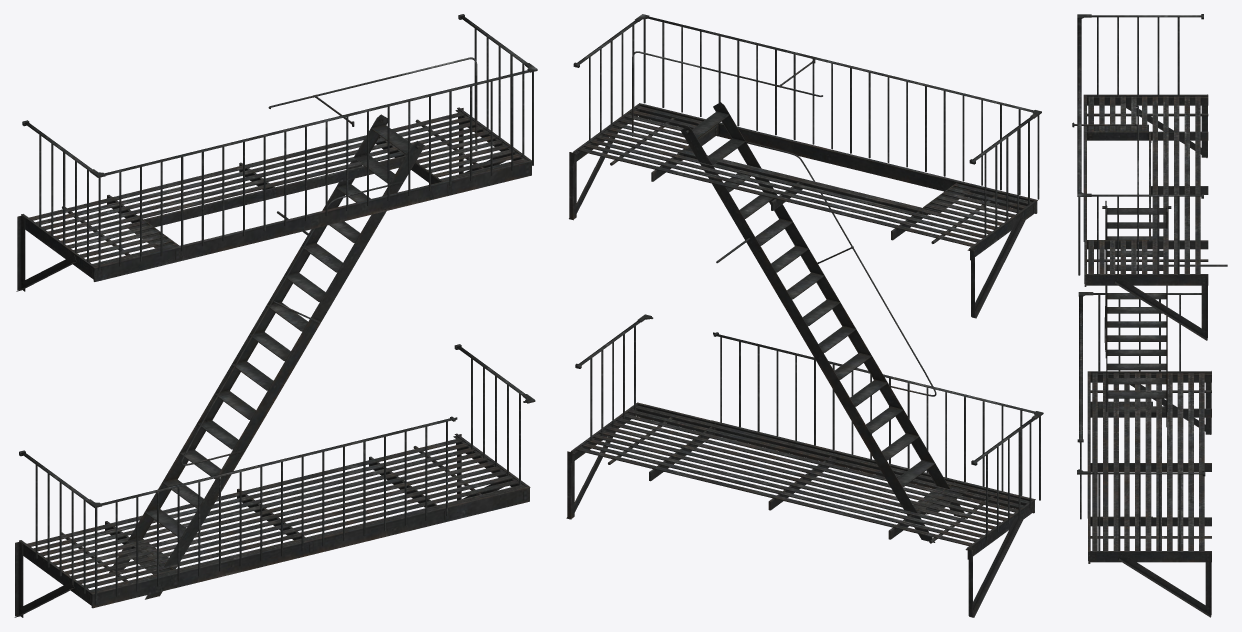
File: fire-escape.glb
3 views of the same model, side by side, from view 1: azimuth 30°, elevation 25°; view 2: azimuth 150°, elevation 25°; view 3: azimuth 270°, elevation 25° (orthographic). The views are drawn at different scales.
Parts seen in each view (by area): view 1: modular_fire_escape_platform_bottom, modular_fire_escape_platform_middle, modular_fire_escape_stairs, modular_fire_escape_railing_middle, modular_fire_escape_railing_bottom, modular_fire_escape_platform_railing; view 2: modular_fire_escape_platform_bottom, modular_fire_escape_platform_middle, modular_fire_escape_stairs, modular_fire_escape_railing_middle, modular_fire_escape_railing_bottom, modular_fire_escape_platform_railing; view 3: modular_fire_escape_platform_bottom, modular_fire_escape_platform_middle, modular_fire_escape_stairs, modular_fire_escape_railing_middle, modular_fire_escape_railing_bottom, modular_fire_escape_platform_railing.
Part boxes in pixels (bbox=[...]): modular_fire_escape_platform_bottom: bbox=[14, 433, 530, 617]; modular_fire_escape_platform_middle: bbox=[16, 107, 531, 291]; modular_fire_escape_stairs: bbox=[109, 114, 425, 599]; modular_fire_escape_railing_middle: bbox=[22, 14, 537, 271]; modular_fire_escape_railing_bottom: bbox=[19, 344, 535, 601]; modular_fire_escape_platform_railing: bbox=[268, 57, 477, 151]; modular_fire_escape_platform_bottom: bbox=[566, 402, 1035, 617]; modular_fire_escape_platform_middle: bbox=[569, 103, 1037, 318]; modular_fire_escape_stairs: bbox=[680, 102, 967, 542]; modular_fire_escape_railing_middle: bbox=[573, 14, 1041, 237]; modular_fire_escape_railing_bottom: bbox=[575, 314, 1043, 539]; modular_fire_escape_platform_railing: bbox=[632, 51, 822, 136]; modular_fire_escape_platform_bottom: bbox=[1087, 371, 1211, 617]; modular_fire_escape_platform_middle: bbox=[1083, 94, 1208, 340]; modular_fire_escape_stairs: bbox=[1102, 201, 1227, 427]; modular_fire_escape_railing_middle: bbox=[1077, 14, 1203, 276]; modular_fire_escape_railing_bottom: bbox=[1077, 292, 1205, 550]; modular_fire_escape_platform_railing: bbox=[1072, 105, 1138, 194].
Size of the model in its own units: 4.79 by 5.09 by 1.7.
3 materials, 3 textured.
